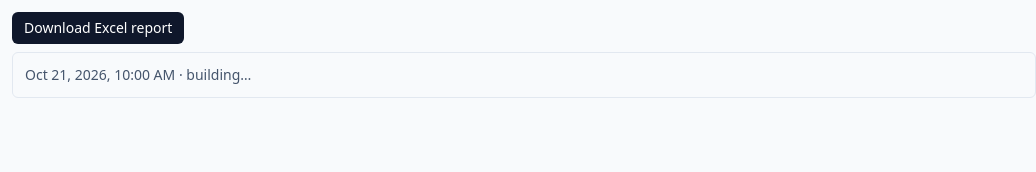
Test case: ExportPanel › falls back to a background build when the job is too large, and says so
Click the button "Download Excel report".
click(98, 28)  # box [12,12,184,44]
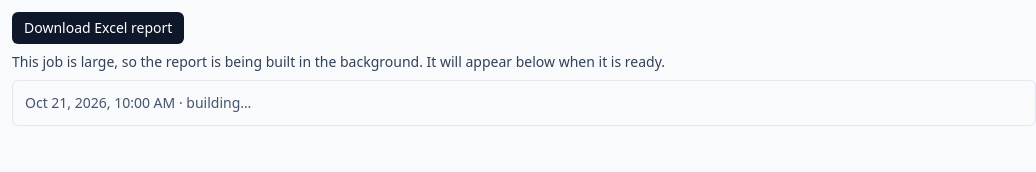
Now the text "being built in the background" is shown, box [12,52,665,71]
